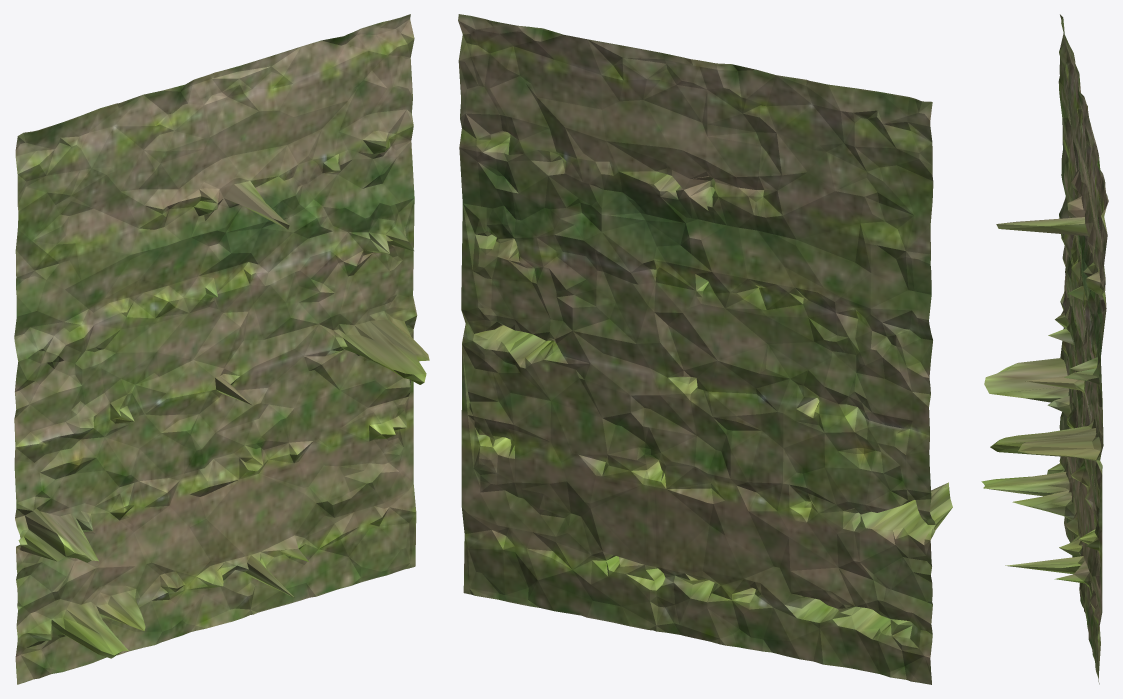
The model's file is map_120_100.obj.
3 renders of one model, left to right at view 1: azimuth 30°, elevation 25°; view 2: azimuth 150°, elevation 25°; view 3: azimuth 270°, elevation 25°, orthographic. The views are drawn at different scales.
Visible parts, largest first — view 1: grp1; view 2: grp1; view 3: grp1.
Part boxes in pixels (x1,y1,x2,y2): grp1: (14,14,429,684); grp1: (458,14,952,684); grp1: (981,14,1108,684).
Size of the model in its own units: 8 by 10 by 2.37.
Materials: 1 (1 with a texture image).
